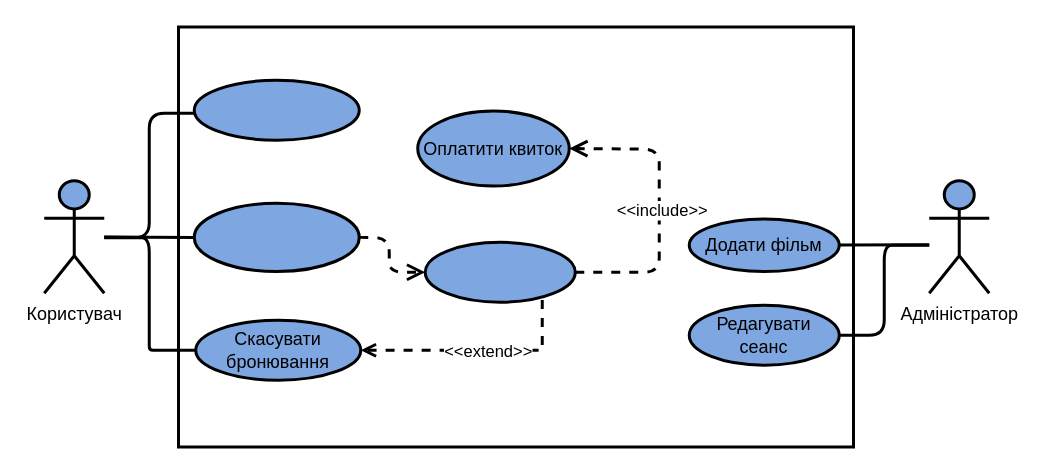
Image size: 1044x474. Some labels were removed from this diagram. The box of each missing label's shape, as (x1, y1, x2, y2) in pixels:
Забронювати квиток: (423, 240, 576, 303)
Обрати сеанс: (192, 201, 360, 272)
Переглянути фільми: (192, 78, 360, 141)
